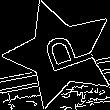P_W: (29, 28, 91, 80)
